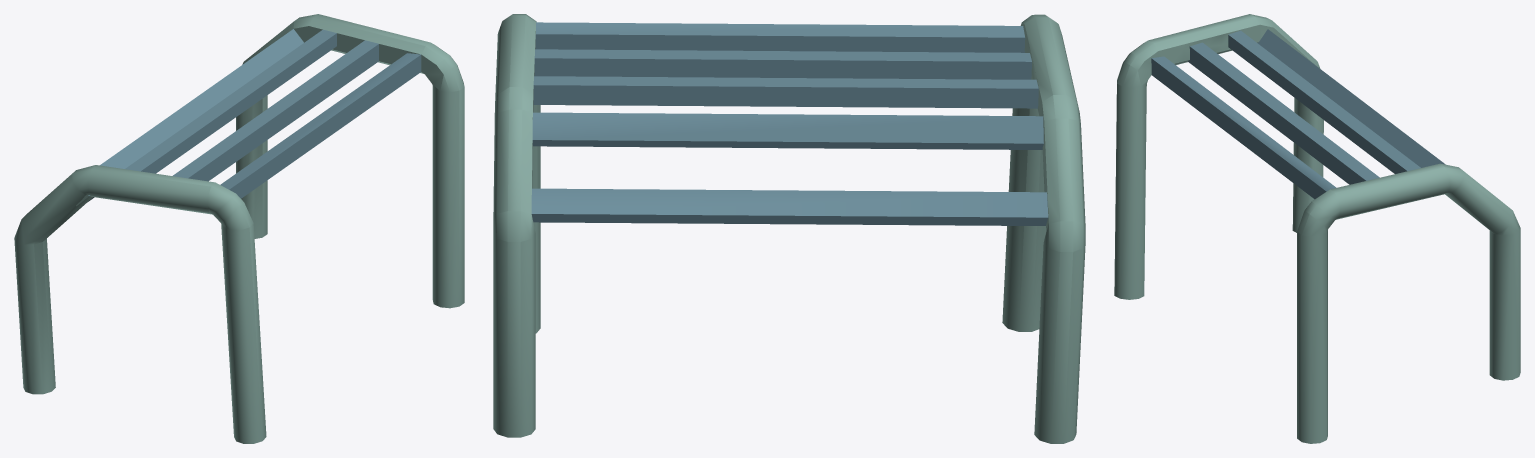
Rendered from play-monkeybars.glb.
The picture shows the model from 3 angles, left to right: view 1: azimuth 30°, elevation 25°; view 2: azimuth 150°, elevation 25°; view 3: azimuth 270°, elevation 25°; orthographic projection. The views are drawn at different scales.
Parts seen in each view (by area): view 1: lod0; view 2: lod0; view 3: lod0.
Part boxes in pixels (<box>): lod0: <box>14,14,464,443</box>; lod0: <box>493,14,1085,443</box>; lod0: <box>1114,14,1520,443</box>.
Size of what is drawn, in the model's own units: 3.5 by 1.92 by 2.87.
